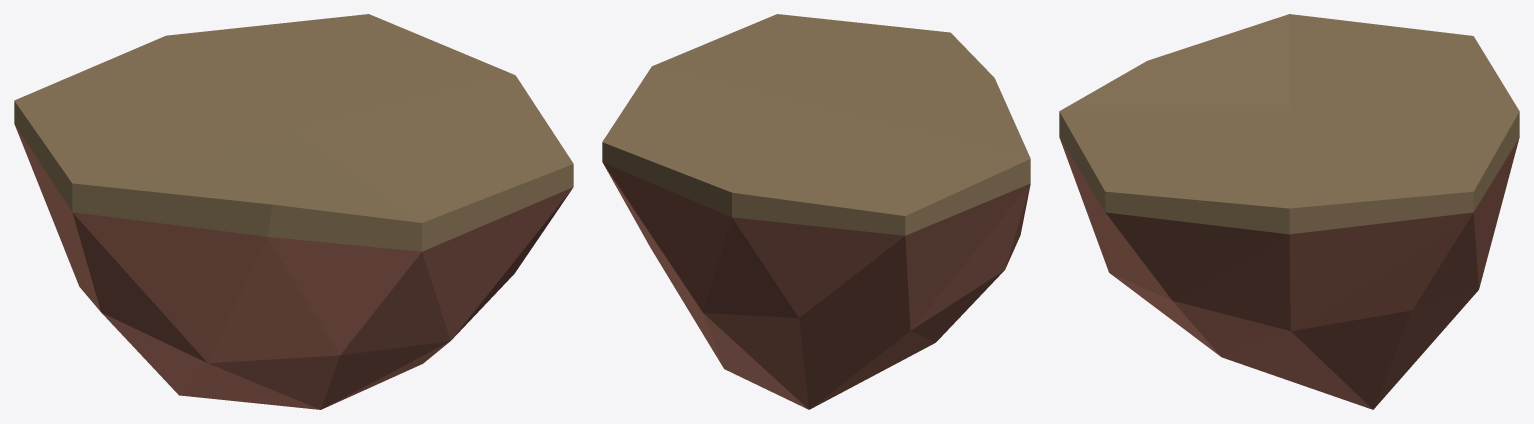
Rendered from 01_01Island_Brown.fbx.
3 views of the same model, side by side, from view 1: azimuth 30°, elevation 25°; view 2: azimuth 150°, elevation 25°; view 3: azimuth 270°, elevation 25° (orthographic). The views are drawn at different scales.
Parts seen in each view (by area): view 1: Icosphere.022; view 2: Icosphere.022; view 3: Icosphere.022.
Boxes of the visible parts, left/top/right/bottom form: Icosphere.022: left=14, top=14, right=573, bottom=409; Icosphere.022: left=602, top=14, right=1030, bottom=409; Icosphere.022: left=1059, top=14, right=1519, bottom=409.
Size of the model in its own units: 200 by 127 by 200.
